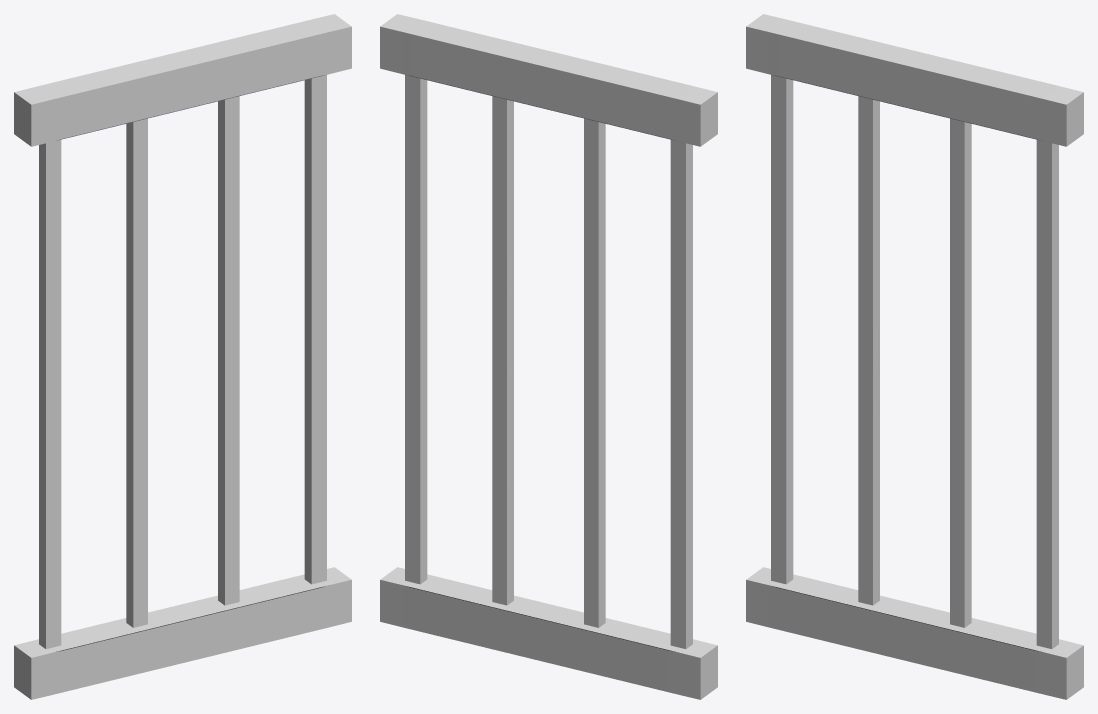
The model's file is Gabbia.fbx.
3 renders of one model, left to right at view 1: azimuth 30°, elevation 25°; view 2: azimuth 150°, elevation 25°; view 3: azimuth 330°, elevation 25°, orthographic.
Parts seen in each view (by area): view 1: Sbarra1, Cube.003; view 2: Sbarra1, Cube.003; view 3: Sbarra1, Cube.003.
Part boxes in pixels (x1,y1,x2,y2): Sbarra1: [39, 75, 326, 648]; Cube.003: [14, 14, 351, 699]; Sbarra1: [405, 75, 692, 648]; Cube.003: [380, 14, 717, 699]; Sbarra1: [771, 75, 1058, 648]; Cube.003: [746, 14, 1083, 699].
Size of the model in its own units: 1.63 by 2.9 by 0.153.
